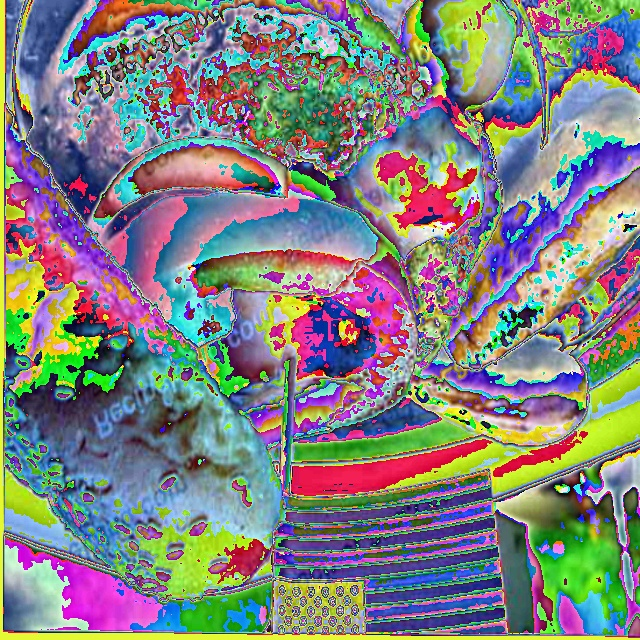background: (5, 0, 639, 603)
